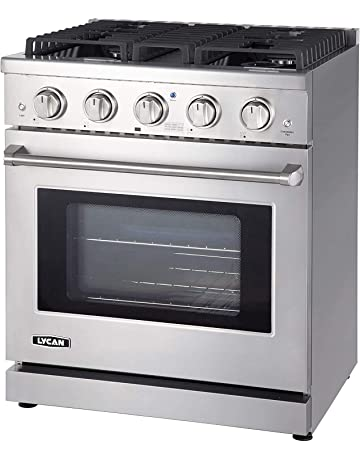stove: (3, 7, 360, 455)
